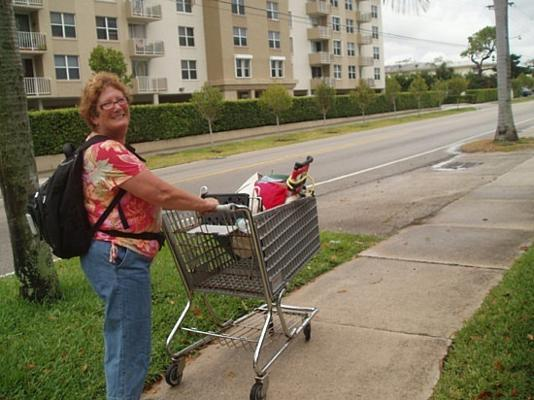person: (61, 70, 225, 397)
